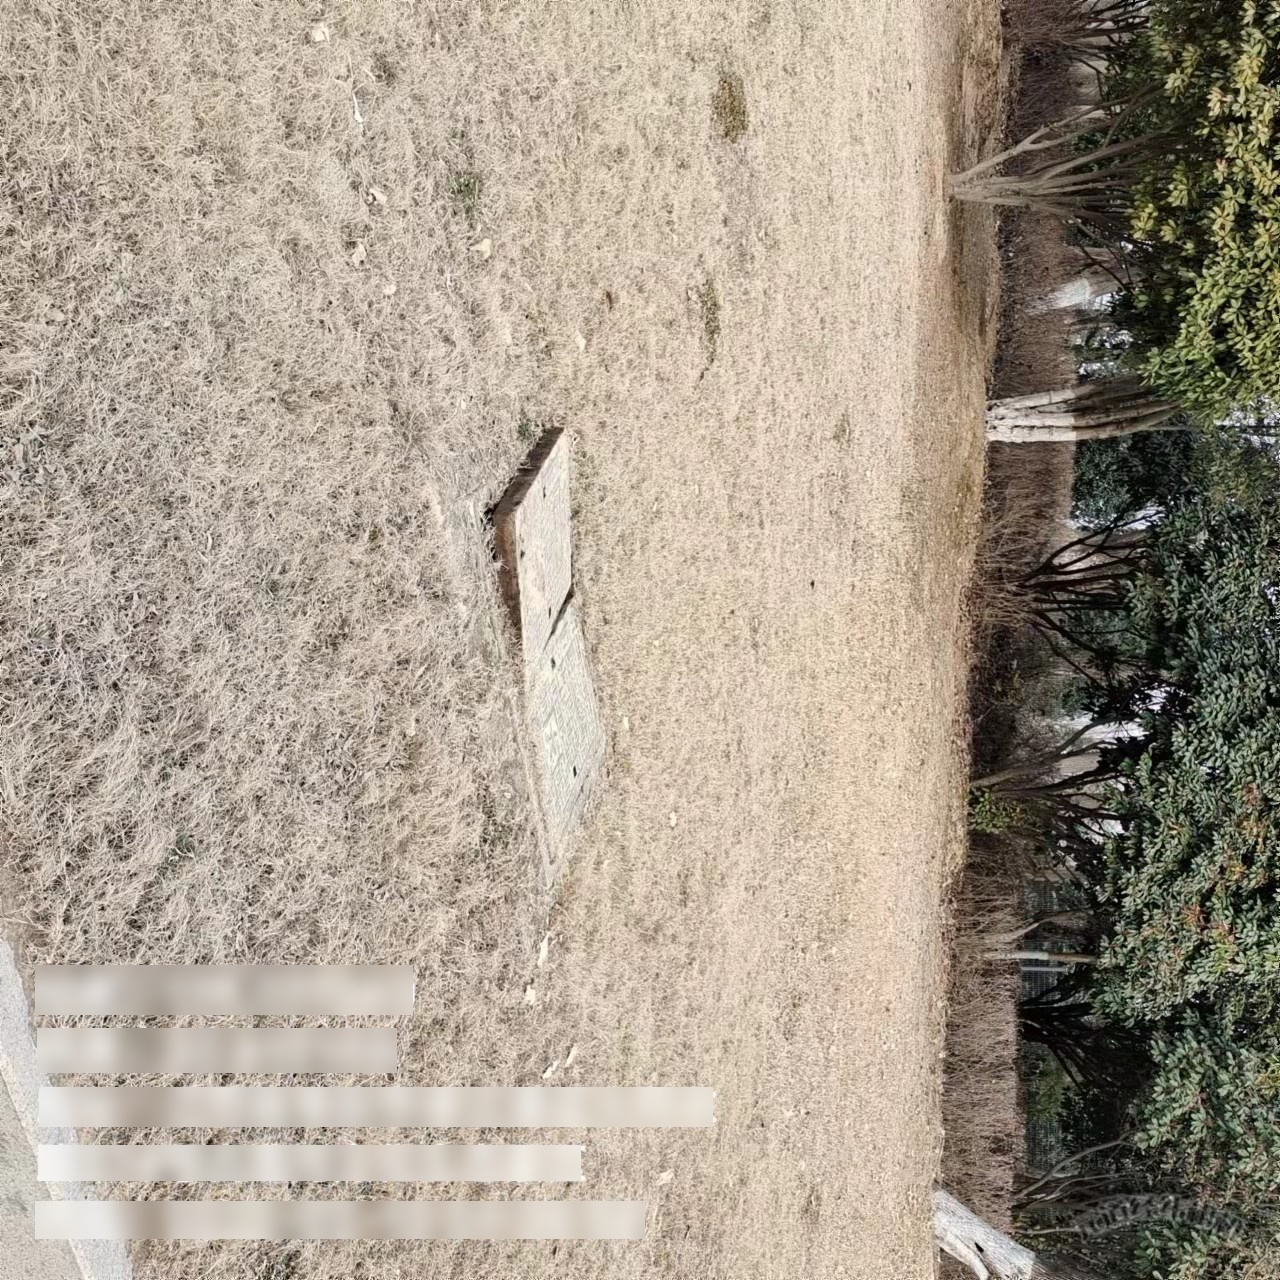uncovered: (482, 429, 618, 896)
